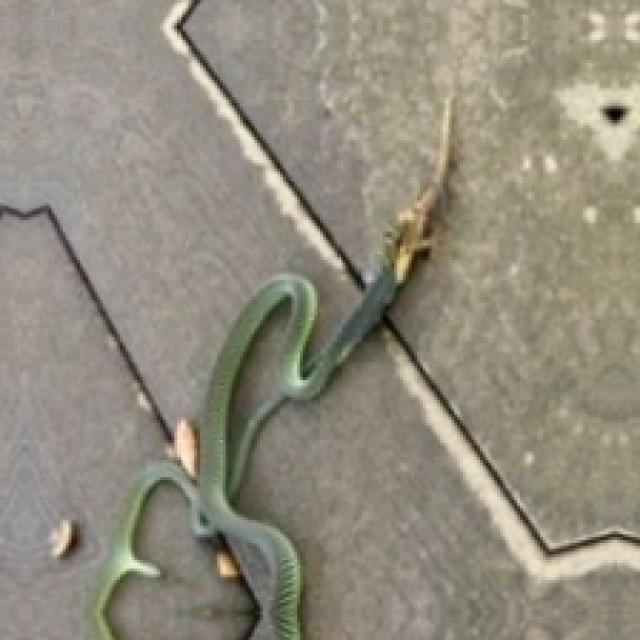paradise tree snake: (91, 97, 449, 637)
